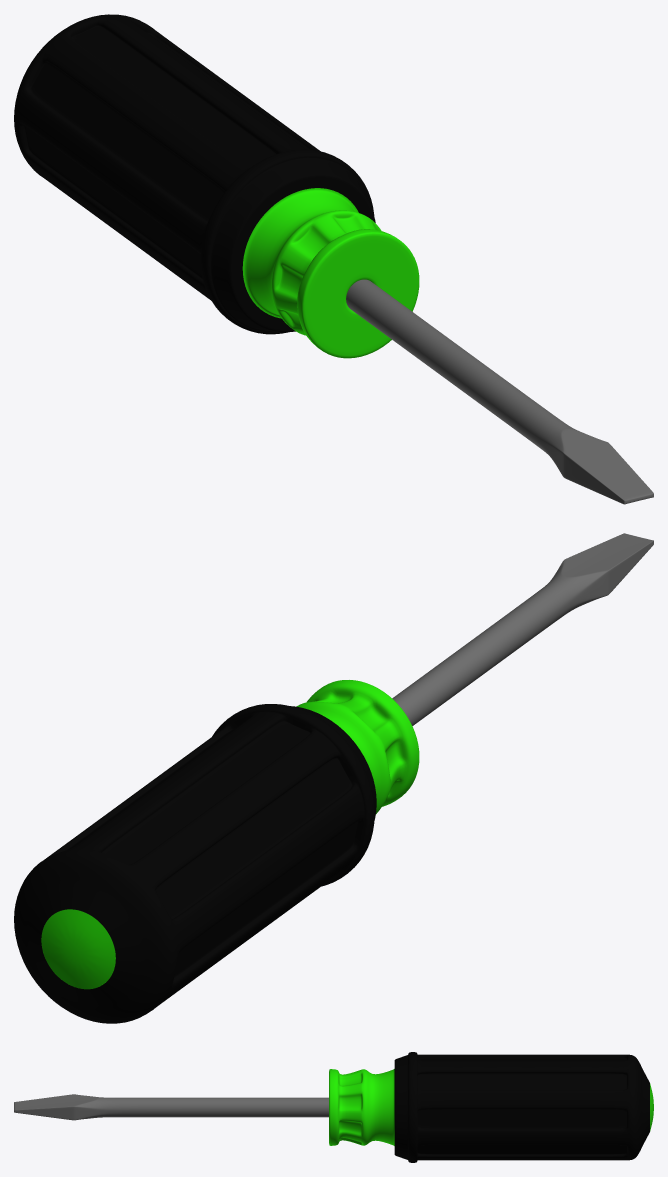
Rendered from SCREWDRIVERwithcolor.fbx.
3 renders of one model, top to bottom at view 1: azimuth 30°, elevation 25°; view 2: azimuth 150°, elevation 25°; view 3: azimuth 270°, elevation 25°, orthographic. The views are drawn at different scales.
Visible parts, largest first — view 1: Circle; view 2: Circle; view 3: Circle.
Boxes of the visible parts, x1,y1,x2,y2 form: Circle: (14, 14, 653, 504); Circle: (14, 533, 653, 1023); Circle: (14, 1052, 653, 1162).
Bounding box in the file's own units: 3.95 × 3.95 × 22.74.
